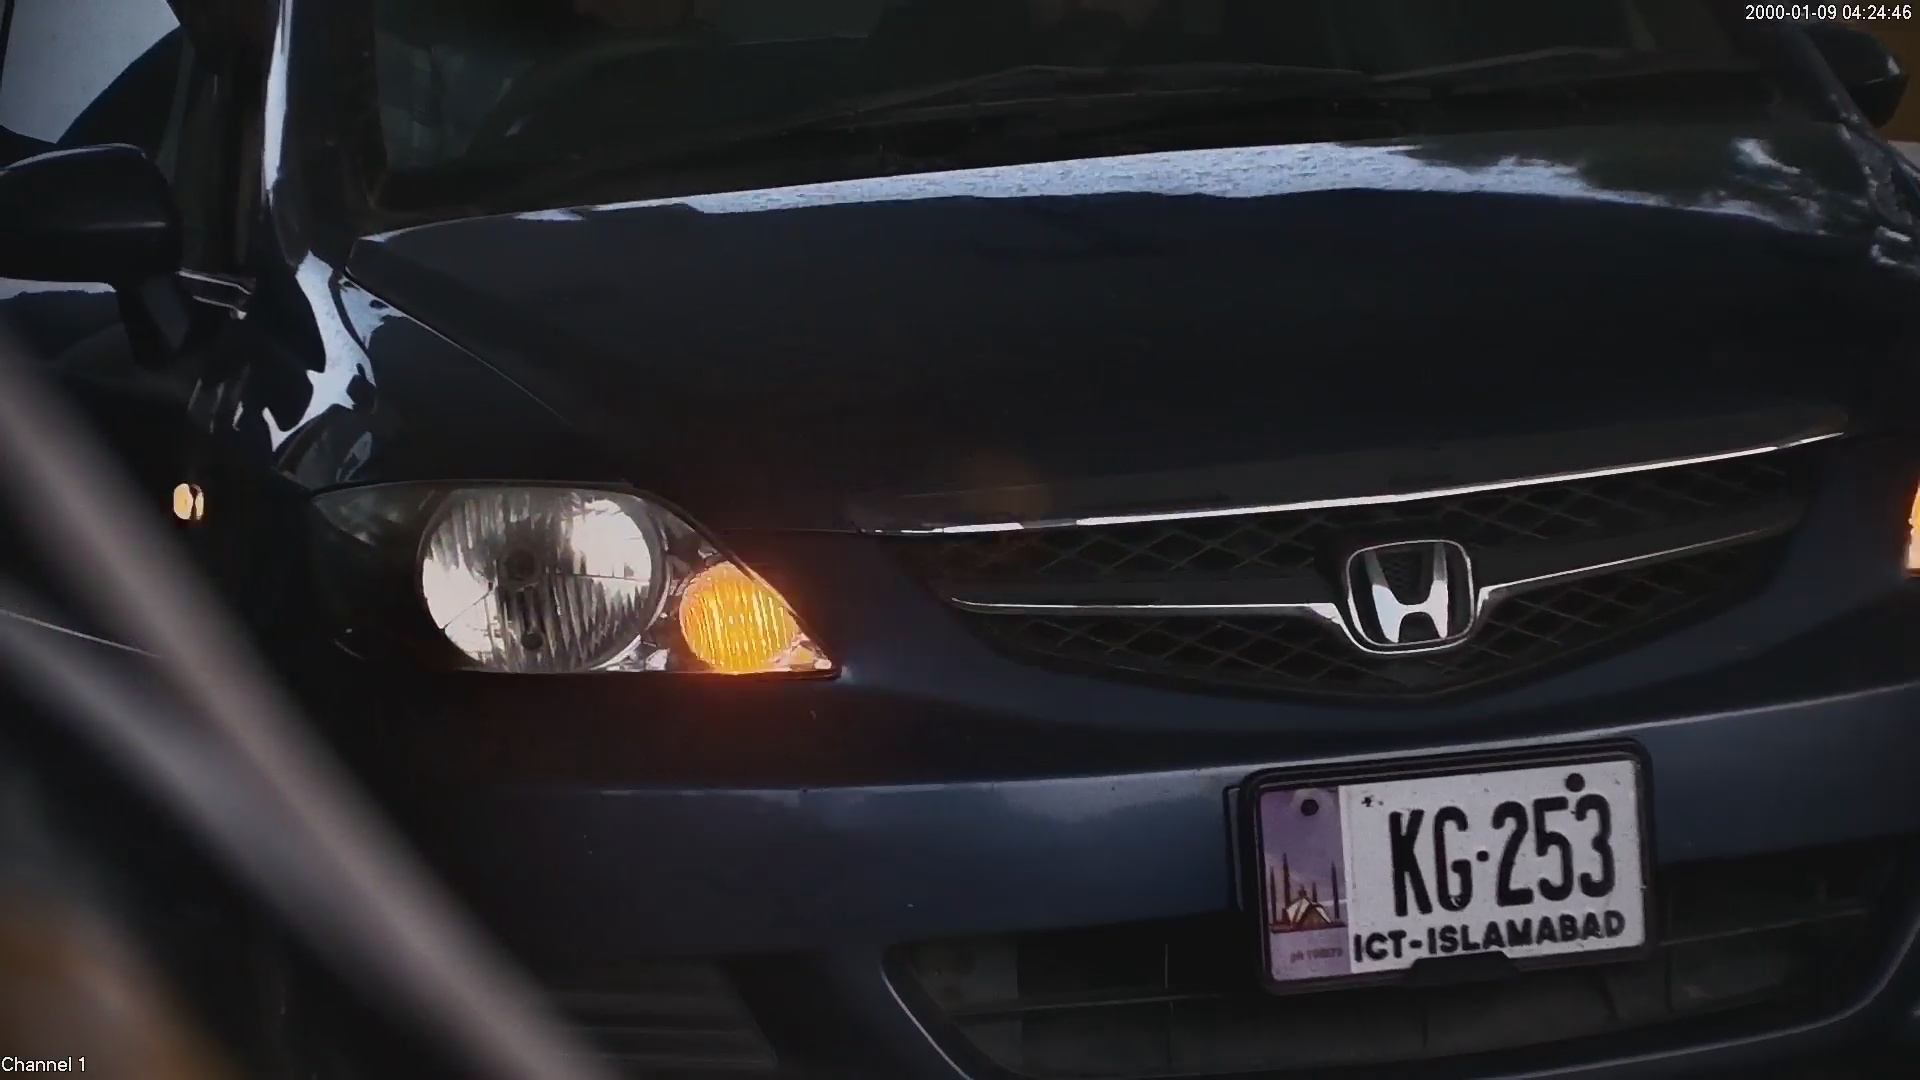Number_Plate: (1232, 738, 1663, 983)
Undefined: (356, 481, 754, 679), (1328, 520, 1491, 657)
